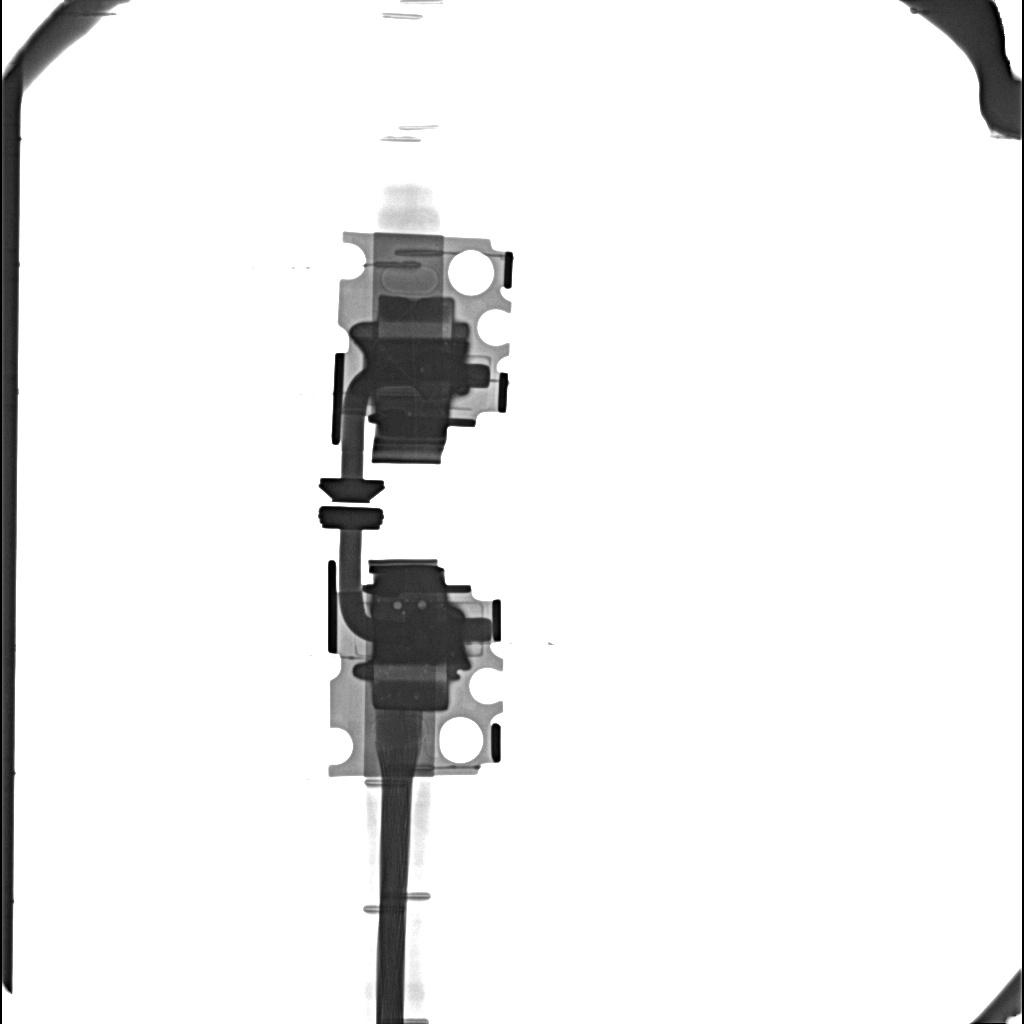defect: (355, 338, 466, 384), (374, 624, 466, 664), (371, 665, 449, 712), (376, 294, 456, 337), (417, 599, 427, 610), (392, 601, 402, 609)
